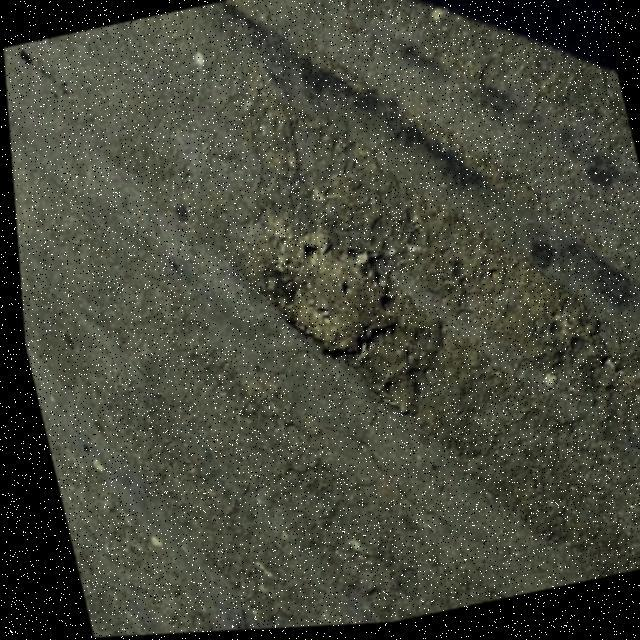pothole: (240, 198, 412, 383)
